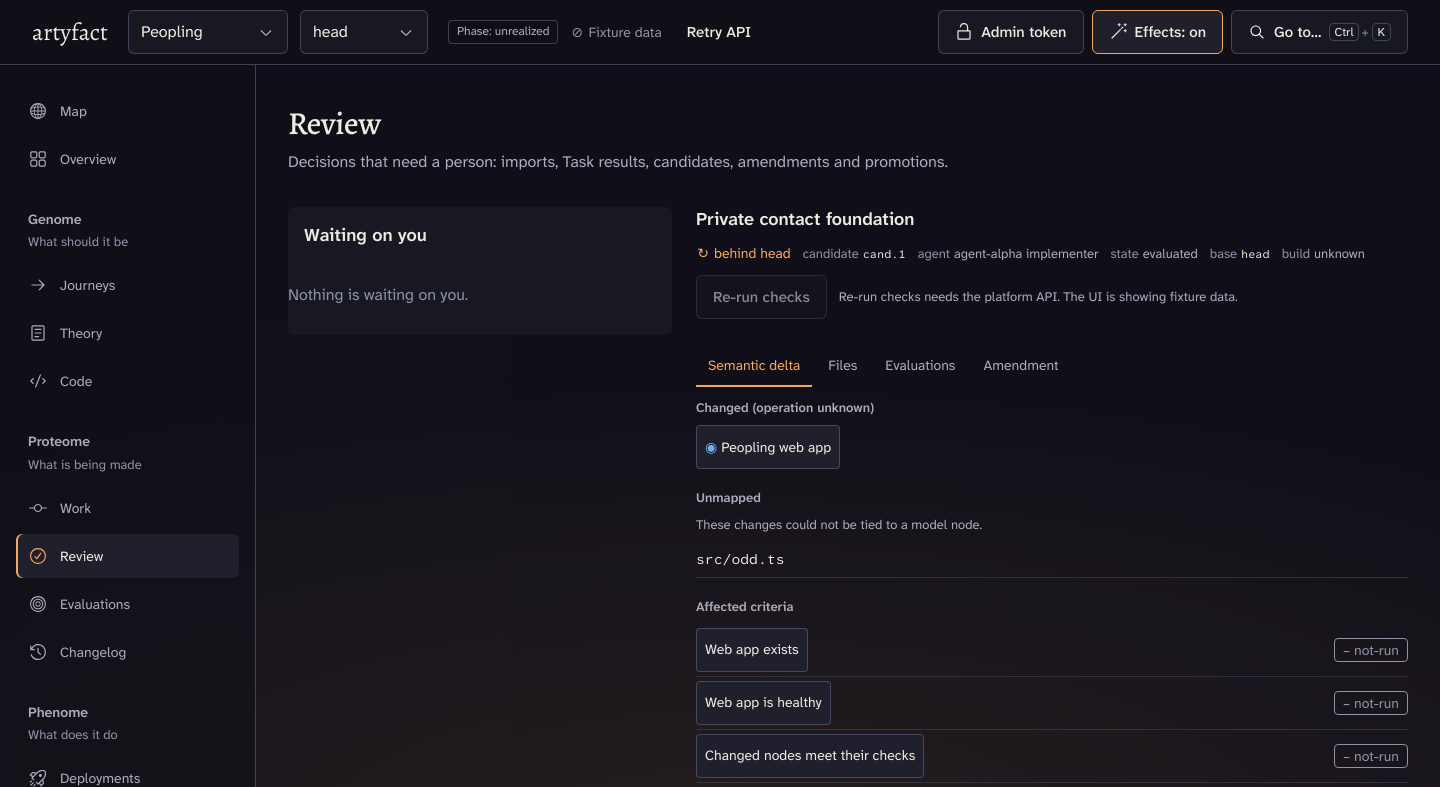
it: CandidateReview (on Review) › mounts the amendment review for genome realizations with the evolution id and system id
Click the tab "Amendment" at [1021, 365], box [972,343,1071,387]
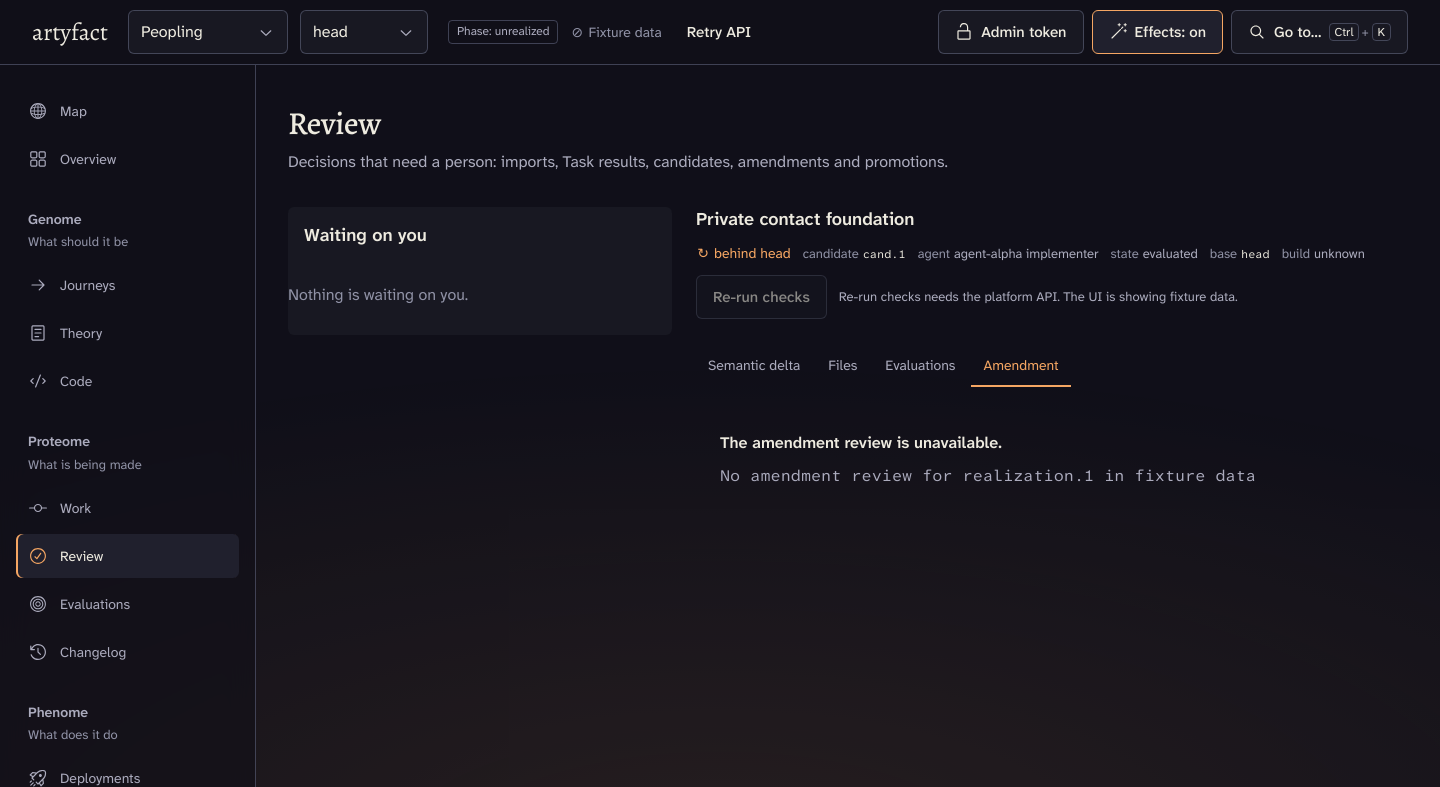
Expected: the text "The amendment review is unavailable." is shown, [720,432,1002,453]
